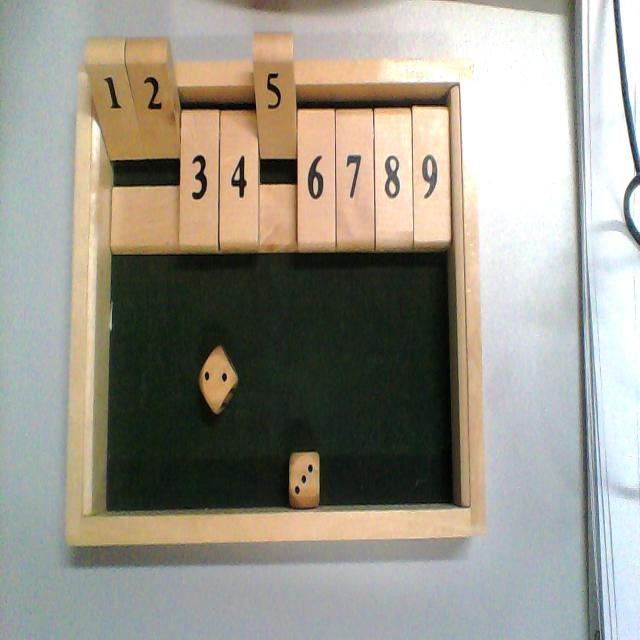2: (196, 335, 240, 421)
3: (283, 438, 325, 520)
O1: (85, 38, 141, 253)
O2: (125, 41, 178, 255)
O5: (253, 32, 299, 255)
